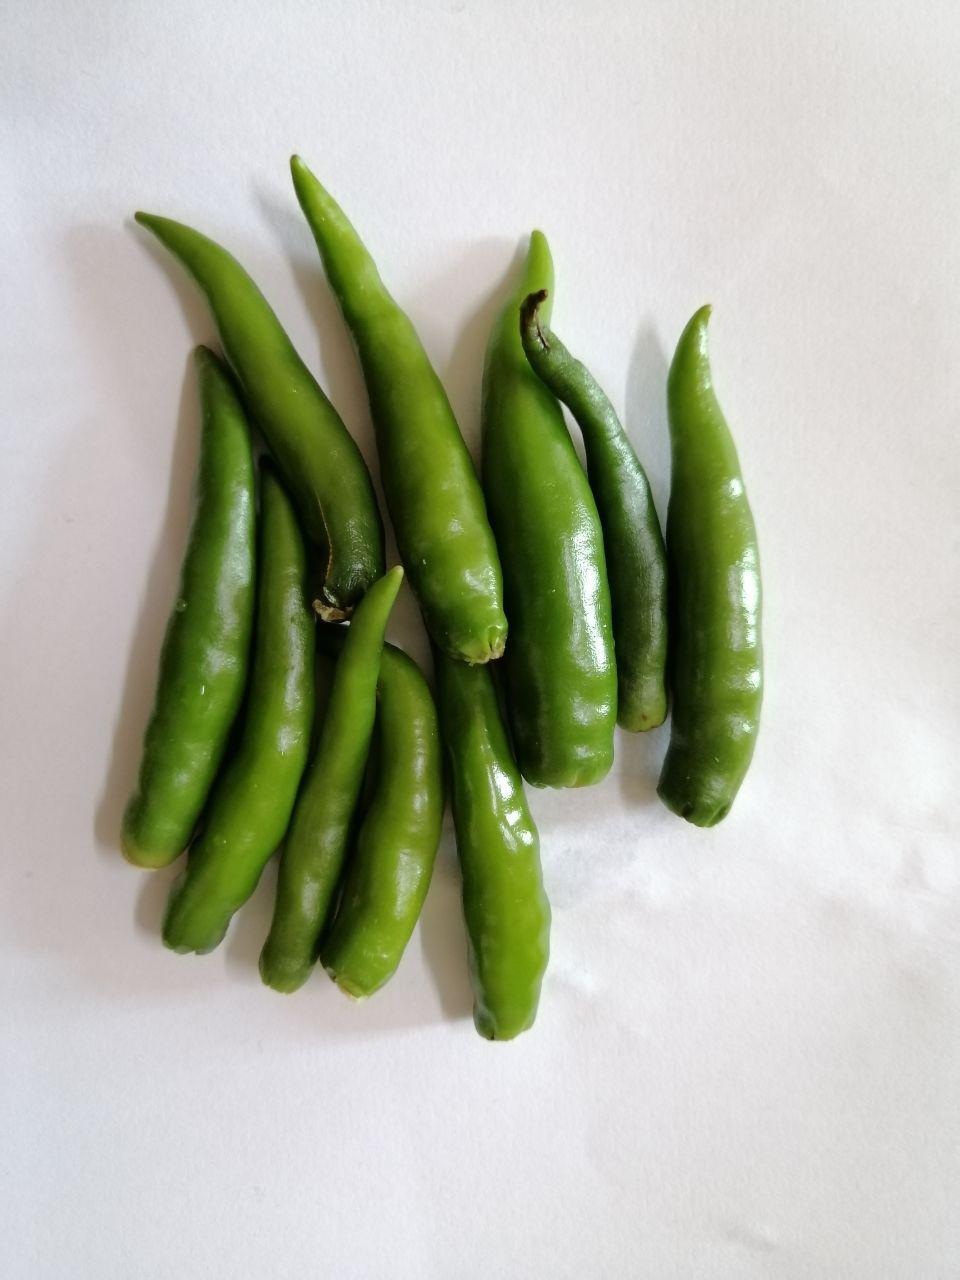lada hijau: (271, 149, 516, 668), (126, 190, 394, 623), (157, 490, 343, 988), (524, 282, 718, 737), (635, 284, 786, 849), (251, 561, 426, 1027), (498, 215, 628, 814), (122, 327, 255, 894), (428, 637, 586, 1098), (324, 625, 451, 1037)
